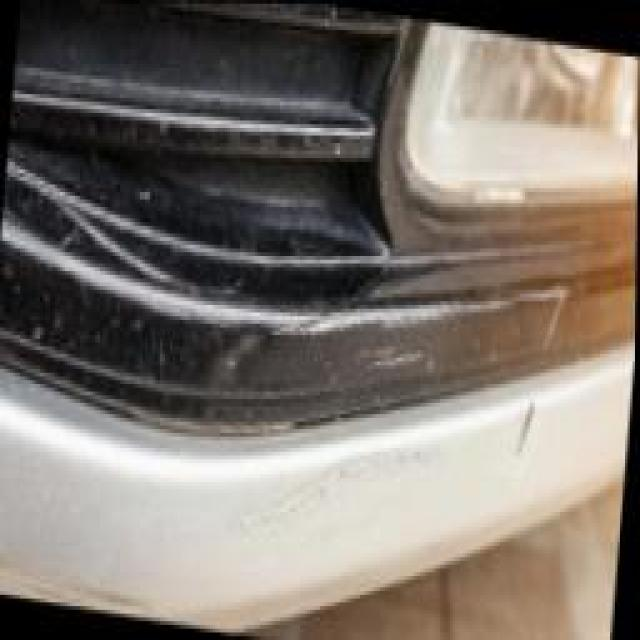Bumper: (210, 211, 605, 610)
